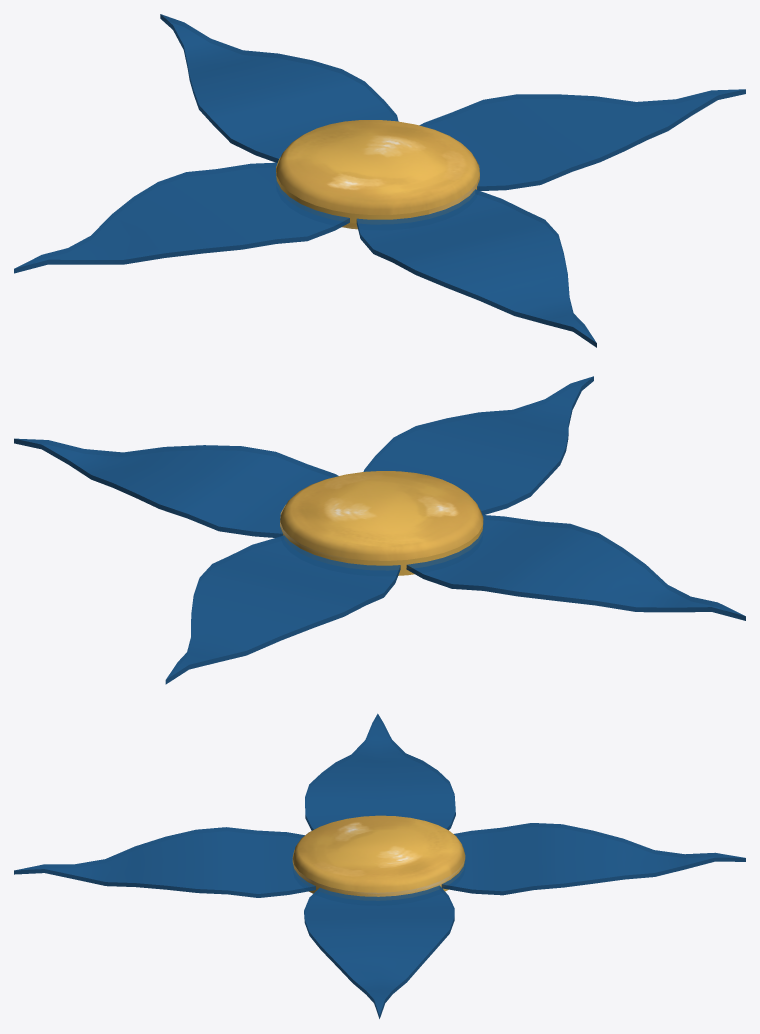
Rendered from fleur 1.fbx.
3 views of the same model, one above another, from view 1: azimuth 30°, elevation 25°; view 2: azimuth 150°, elevation 25°; view 3: azimuth 270°, elevation 25° (orthographic). The views are drawn at different scales.
Visible parts, largest first — view 1: fleur 1; view 2: fleur 1; view 3: fleur 1.
Boxes of the visible parts, left/top/right/bottom form: fleur 1: left=14, top=14, right=745, bottom=347; fleur 1: left=14, top=376, right=745, bottom=684; fleur 1: left=14, top=713, right=745, bottom=1018.
Bounding box in the file's own units: 195 × 8.19 × 199.
Materials: 2 (1 with a texture image).
